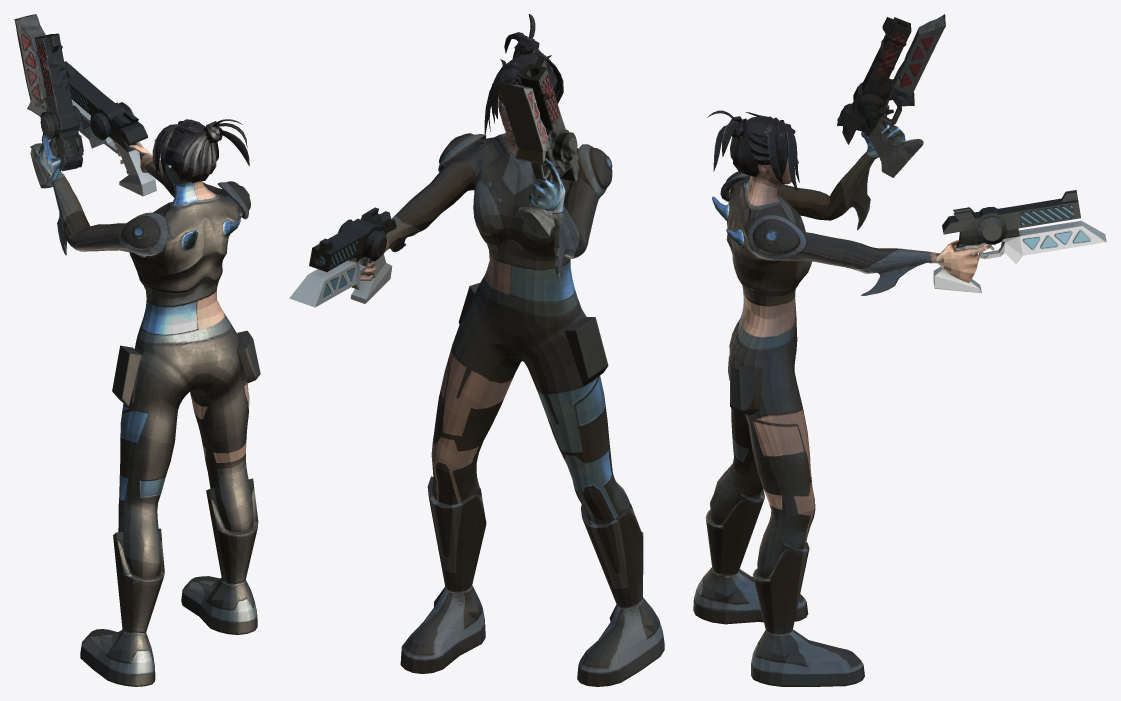
3 renders of one model, left to right at view 1: azimuth 30°, elevation 25°; view 2: azimuth 150°, elevation 25°; view 3: azimuth 270°, elevation 25°, orthographic. The views are drawn at different scales.
Parts seen in each view (by area): view 1: Dex_LOW_Plane.001; view 2: Dex_LOW_Plane.001; view 3: Dex_LOW_Plane.001.
Part boxes in pixels (x1,y1,x2,y2): Dex_LOW_Plane.001: (14,14,260,686); Dex_LOW_Plane.001: (289,14,664,686); Dex_LOW_Plane.001: (693,14,1106,686).
Bounding box in the file's own units: 1.63 × 5.2 × 3.27.
